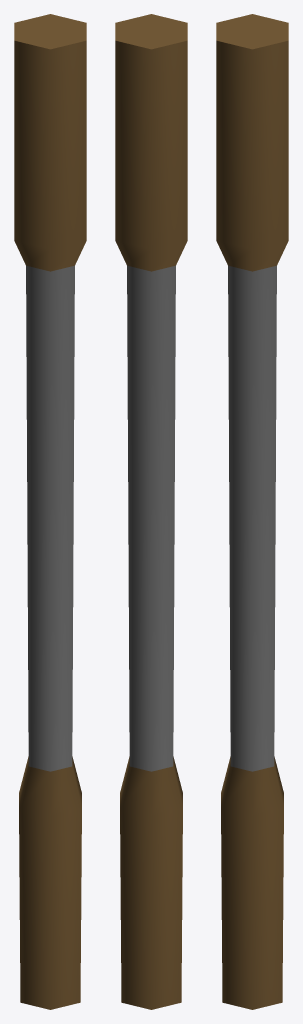
File: tool_handle_3.fbx
The picture shows the model from 3 angles, left to right: view 1: azimuth 90°, elevation 25°; view 2: azimuth 210°, elevation 25°; view 3: azimuth 270°, elevation 25°; orthographic projection.
Parts seen in each view (by area): view 1: handle_3; view 2: handle_3; view 3: handle_3.
Boxes of the visible parts, x1=… form: handle_3: x1=14, y1=14, x2=86, y2=1009; handle_3: x1=115, y1=14, x2=187, y2=1009; handle_3: x1=216, y1=14, x2=288, y2=1009.
Size of the model in its own units: 0.8522 by 10.8 by 0.738.
